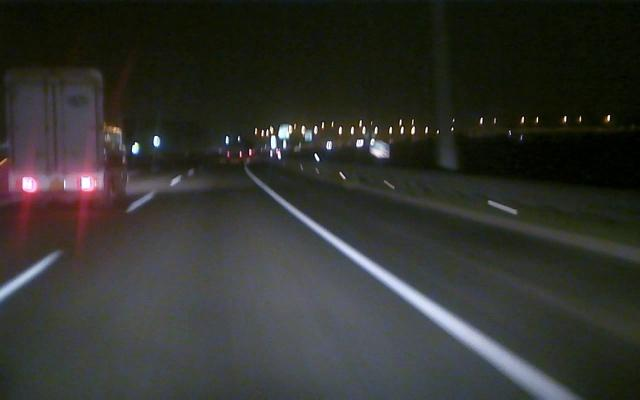lane: (254, 180, 580, 396), (0, 188, 161, 304)
